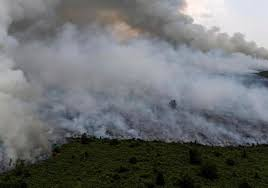smoke: (1, 2, 265, 146)
